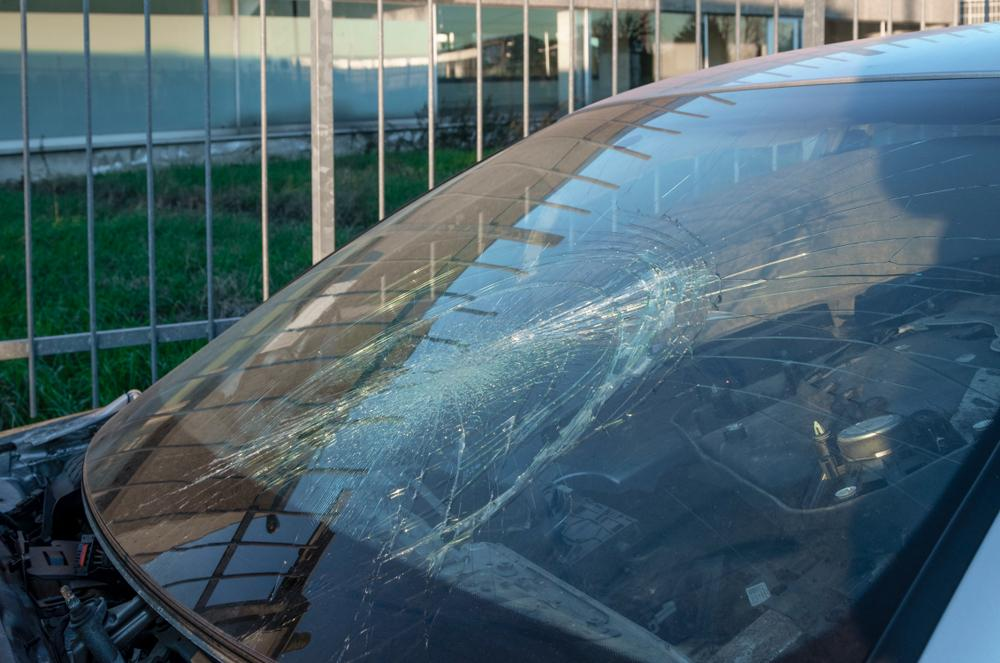glass shatter: (83, 79, 1000, 663)
